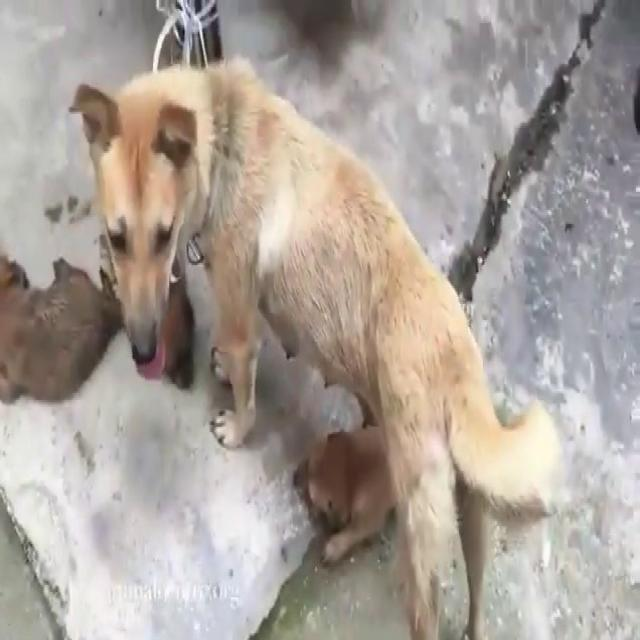normal_animals: (64, 50, 568, 631)
